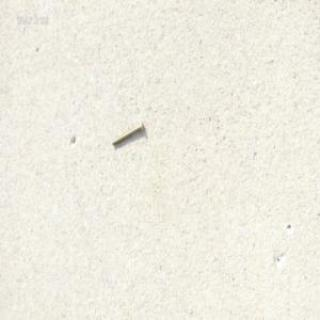Bolttrack_idkeyframe: (110, 120, 142, 146)
